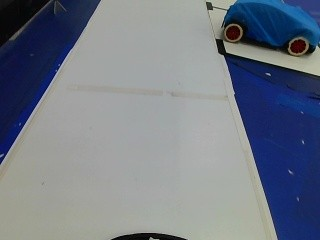car: (223, 0, 318, 56)
